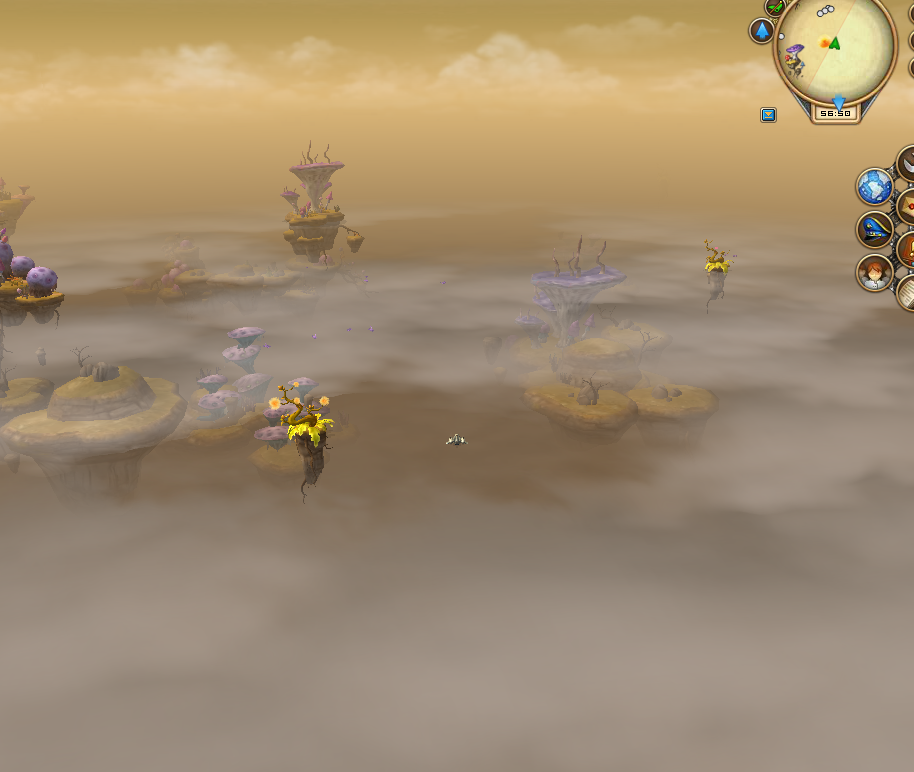dandelion-empty: (697, 233, 730, 297)
dandelion-full: (264, 369, 335, 485)
